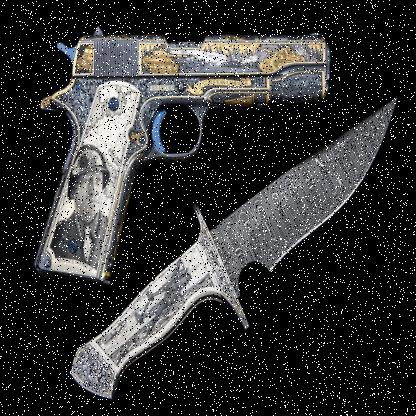pistol: (28, 27, 332, 281)
